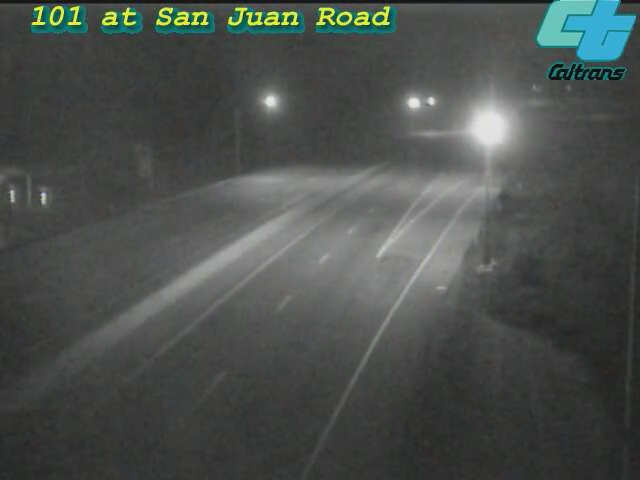vehicle: (461, 104, 511, 154)
